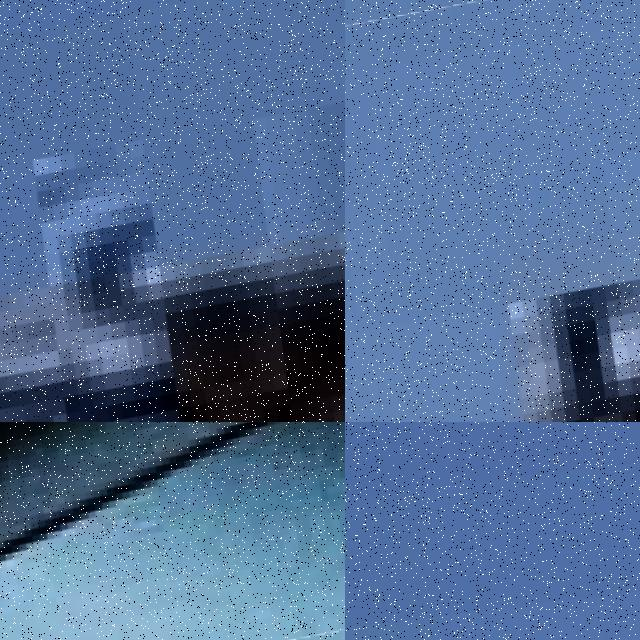0: (0, 0, 345, 422), (345, 0, 640, 422)
drone: (0, 422, 345, 640)
